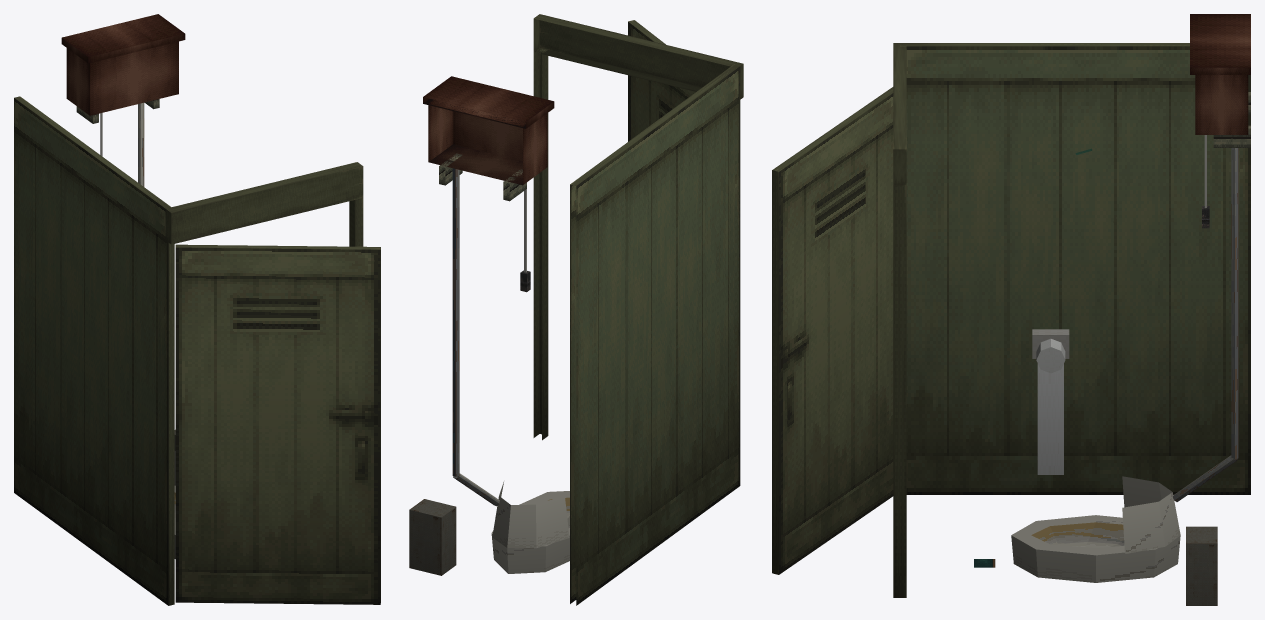
The model's file is prop_toilet_stall-1.glb.
The picture shows the model from 3 angles, left to right: view 1: azimuth 30°, elevation 25°; view 2: azimuth 150°, elevation 25°; view 3: azimuth 270°, elevation 25°; orthographic projection. The views are drawn at different scales.
Visible parts, largest first — view 1: prop_toilet_stall-1; view 2: prop_toilet_stall-1; view 3: prop_toilet_stall-1.
Boxes of the visible parts, <box> form: prop_toilet_stall-1: <box>14,14,380,605</box>; prop_toilet_stall-1: <box>409,14,743,605</box>; prop_toilet_stall-1: <box>772,14,1250,605</box>.
Size of the model in its own units: 0.95 by 2.18 by 1.81.
13 materials, 13 textured.
